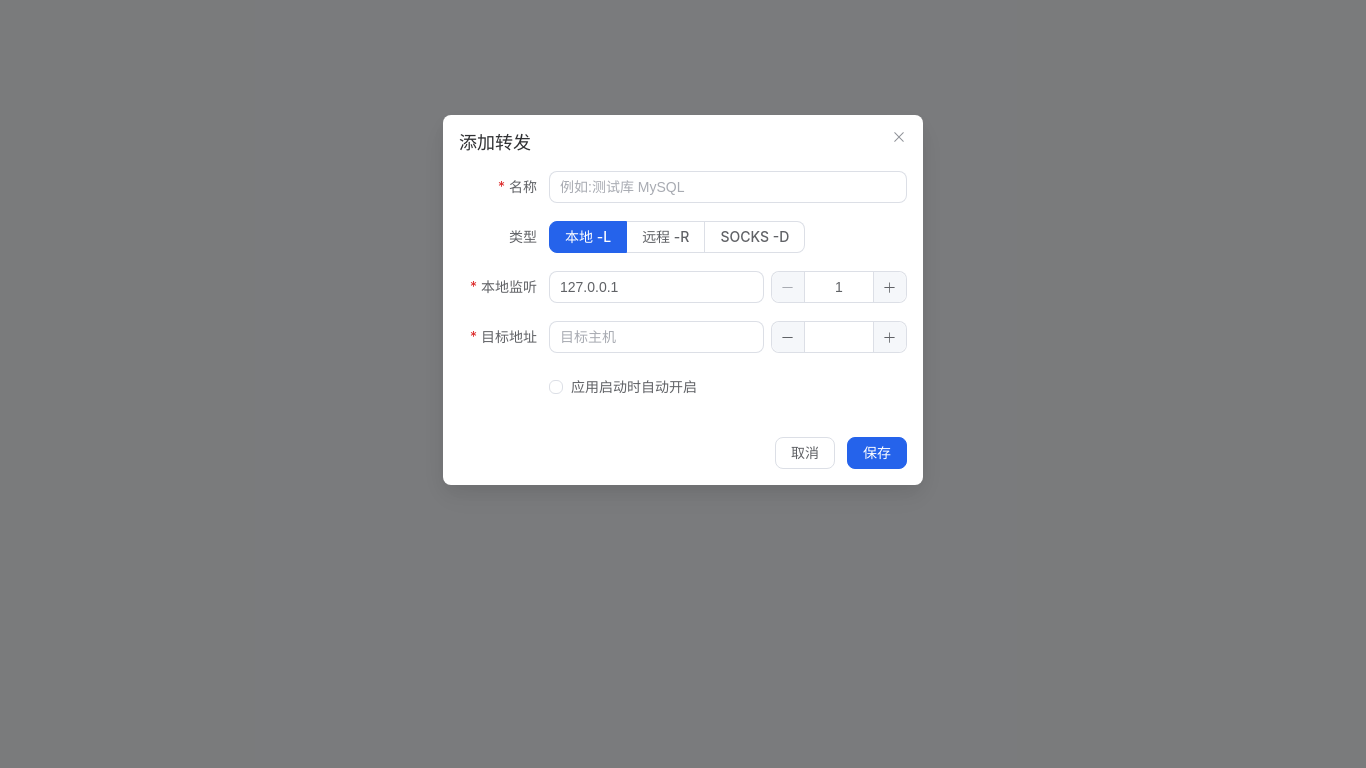
it: ForwardEditorDialog › dynamic 类型隐藏目标字段
Step 1. Click the radio button labelled "SOCKS -D" → (755, 237), box top-left (705, 221), bottom-right (805, 253)
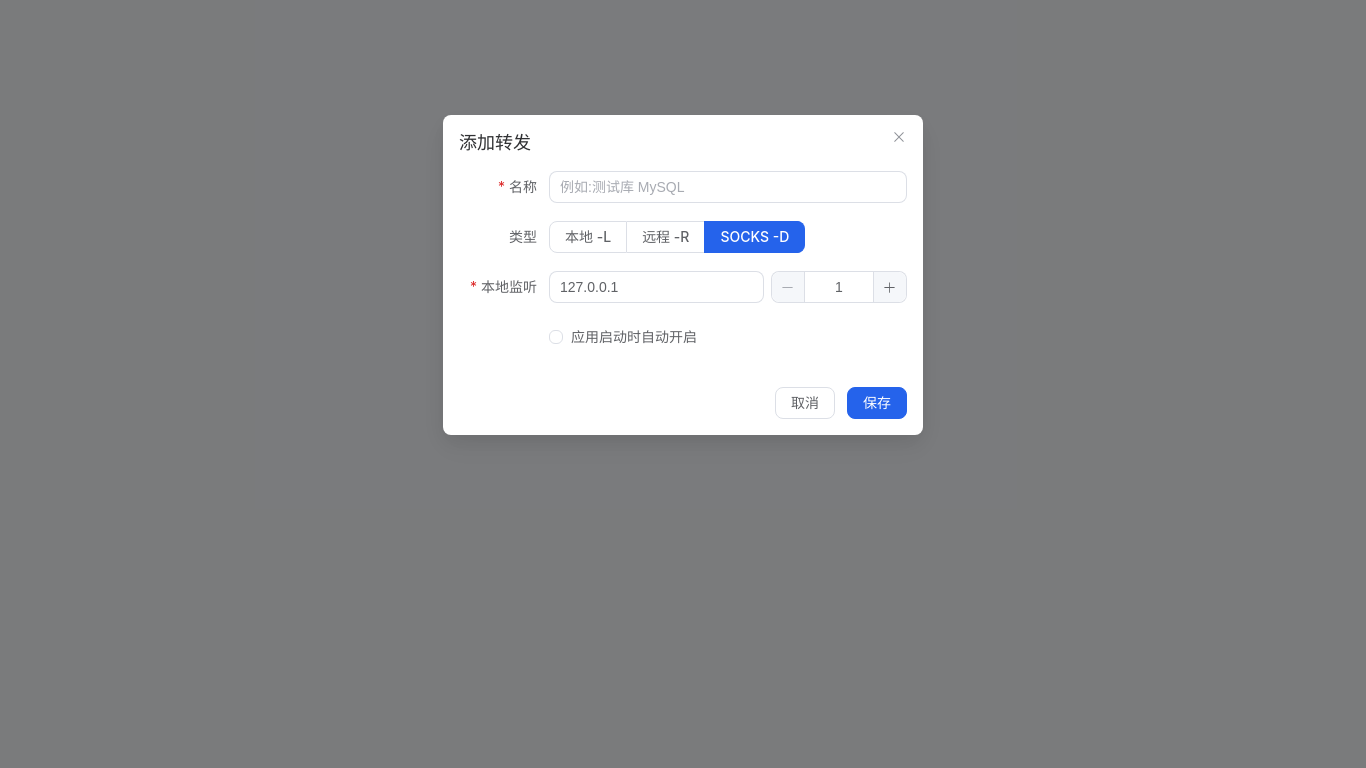
Expected: the text "目标地址" is gone
